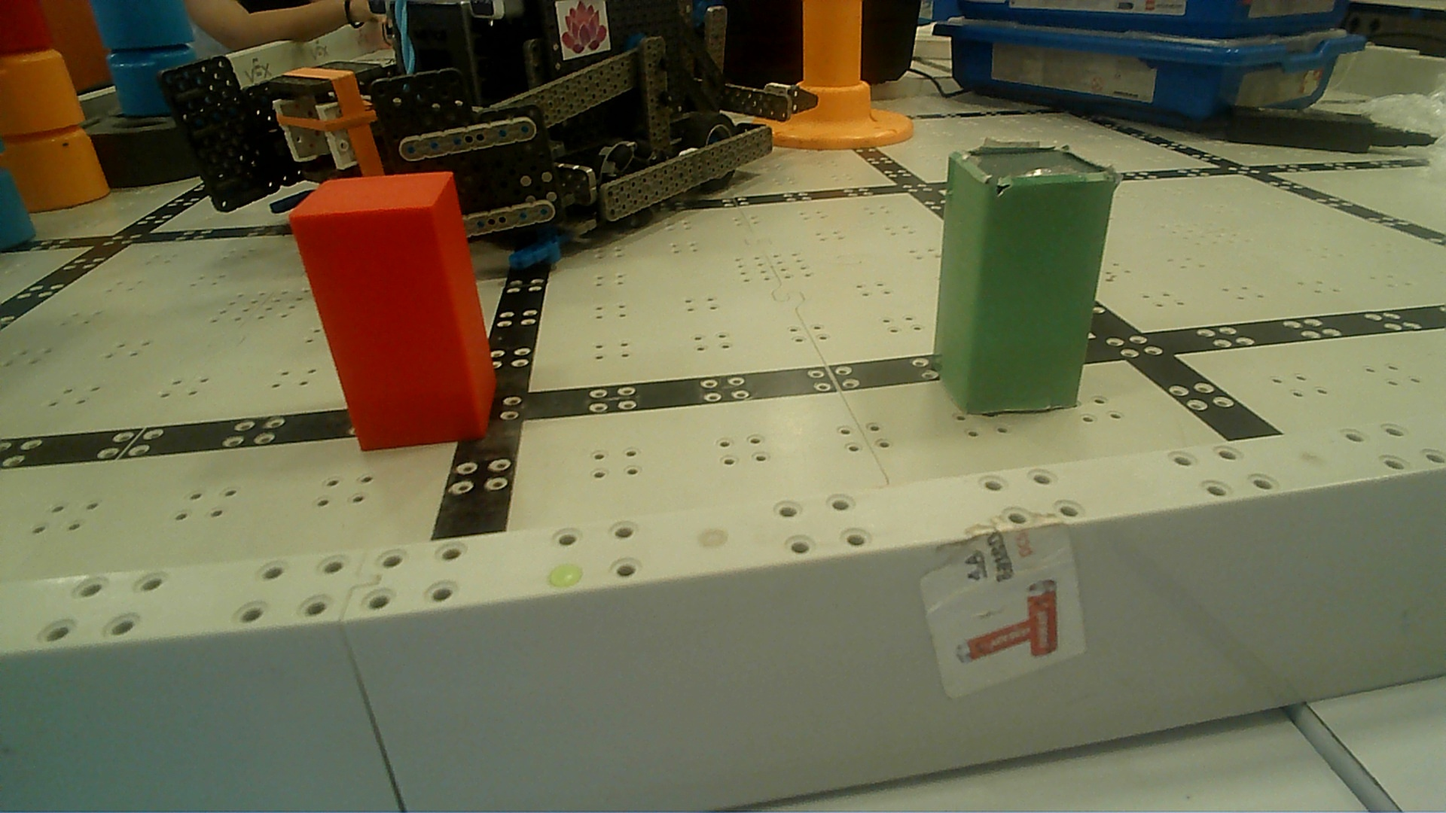red: (277, 160, 510, 485)
